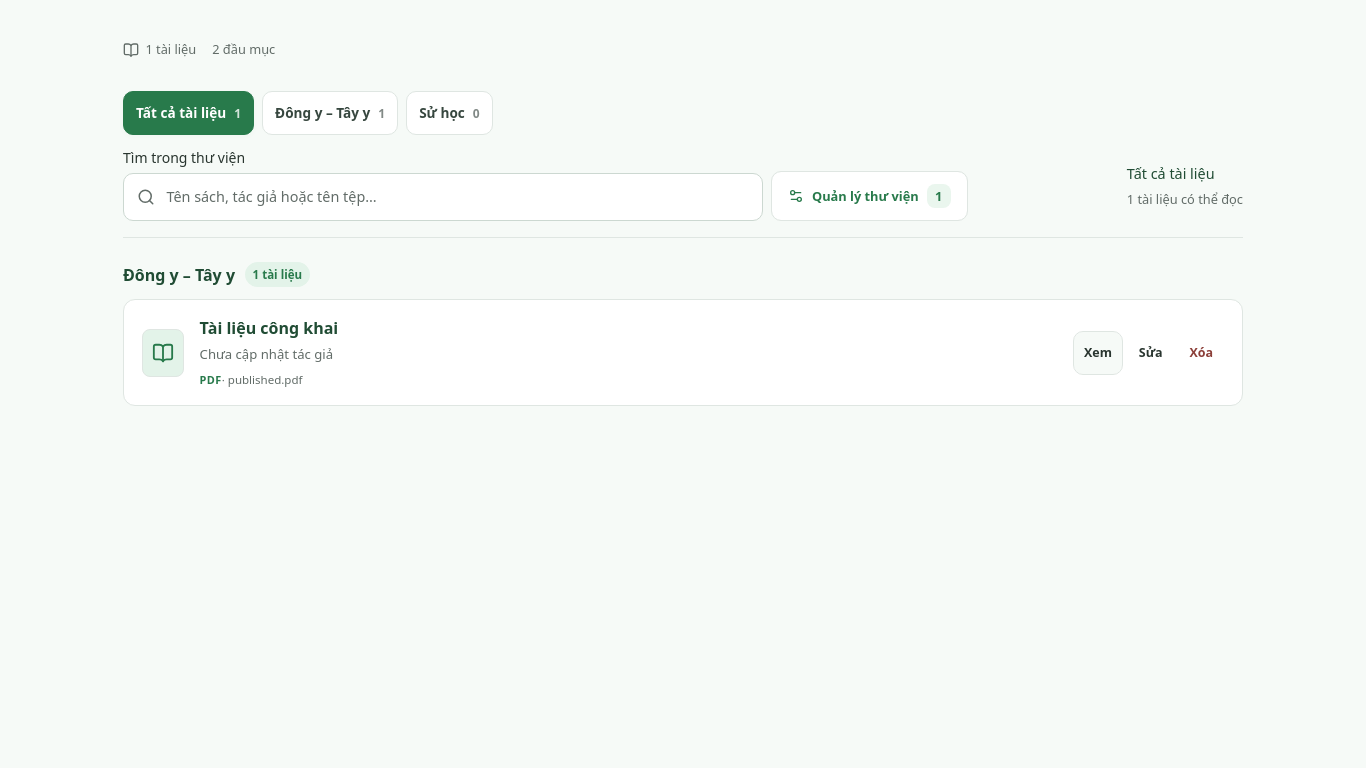
LibraryAdminPage › replaces the chooser with the batch upload dialog
This screenshot has width=1366, height=768.
Expected: the link "Xem" is shown, top-left (1073, 331), bottom-right (1123, 375)
Click the button "Quản lý thư viện 1" at (869, 196), box top-left (771, 171), bottom-right (968, 221)
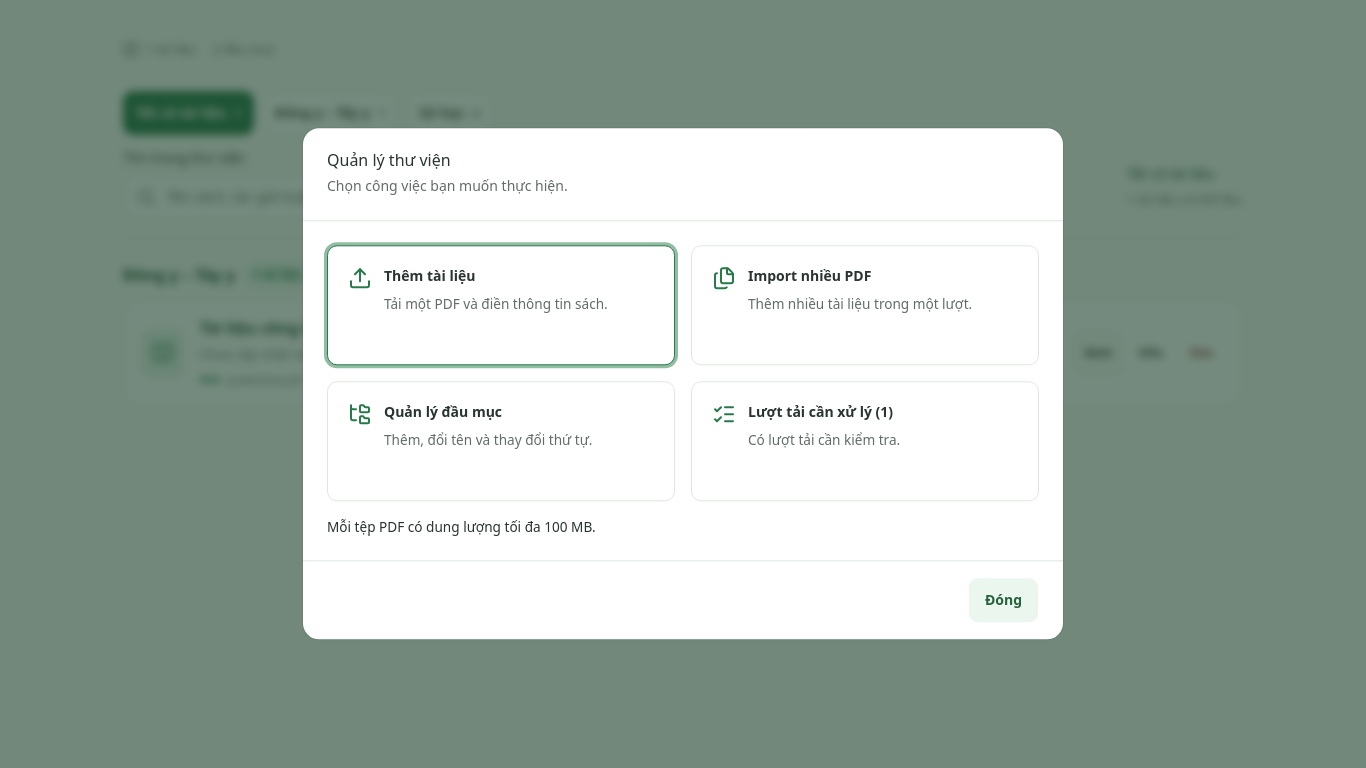
Click the button "Import nhiều PDF Thêm nhiều tài liệu trong một lượt." at (865, 305), box top-left (691, 245), bottom-right (1039, 365)
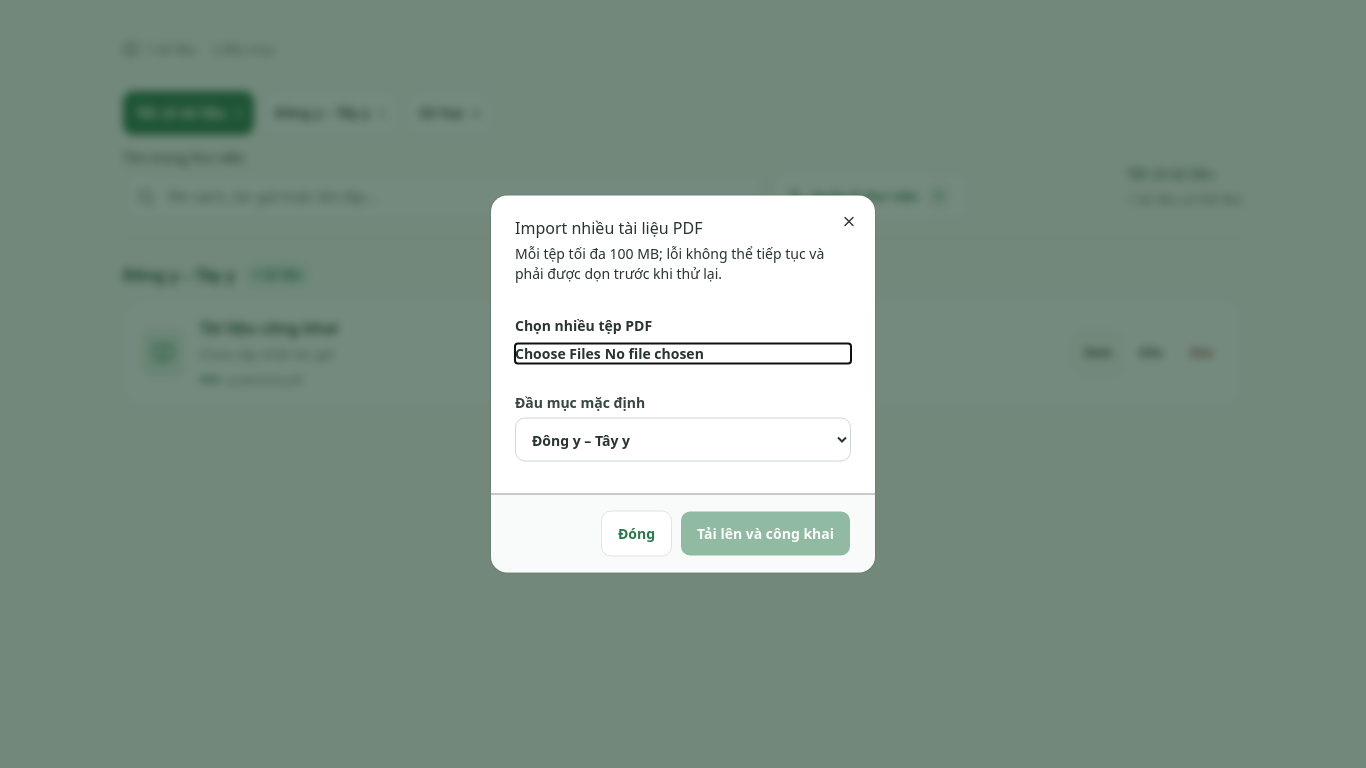
Expected: the dialog "Import nhiều tài liệu PDF" is shown, top-left (491, 196), bottom-right (875, 572)
